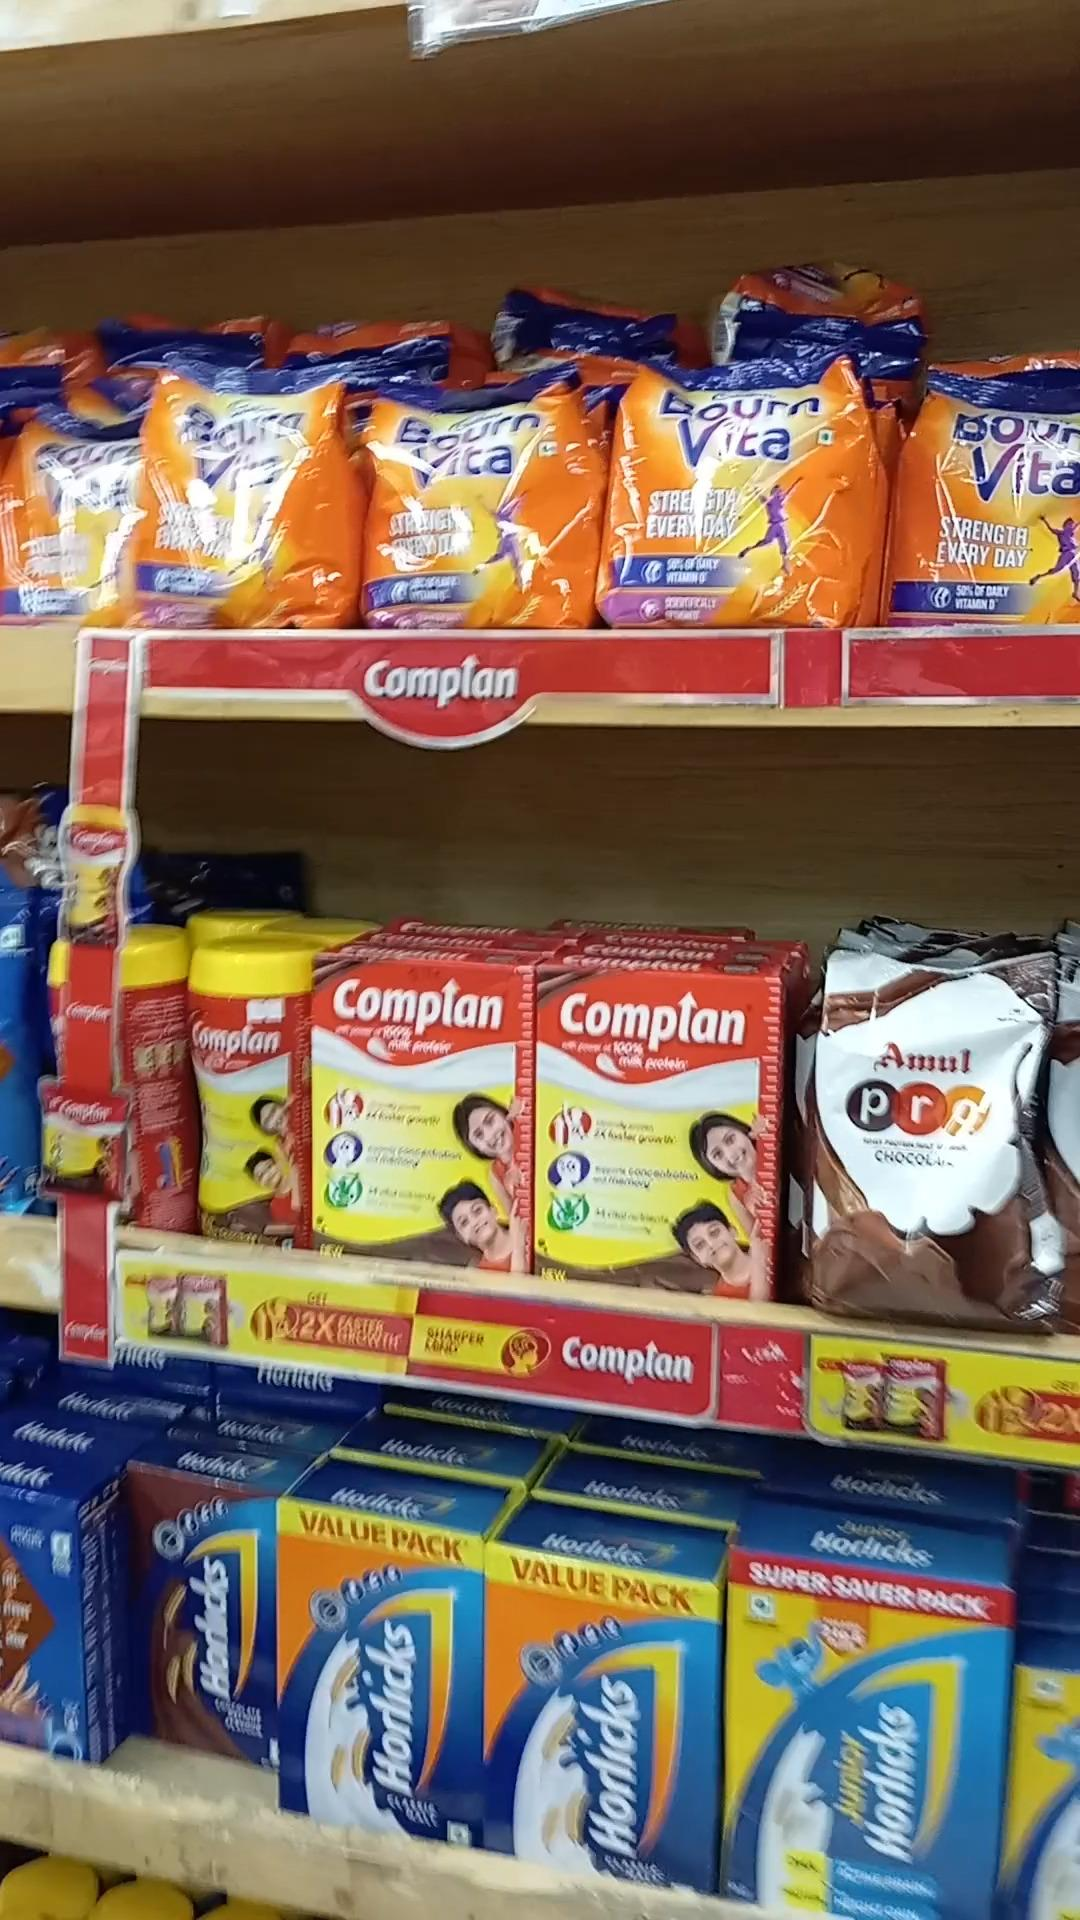BOURN_VITA_500_G_POUCH: (618, 342, 843, 628), (135, 357, 351, 630), (372, 377, 599, 626), (899, 345, 1080, 613)
COMPLAN_CHOCOLATE_500_GMS_JAR: (187, 936, 301, 1242)
COMPLAN_CHOCOLATE_500_GMS_PACK: (543, 967, 769, 1294), (311, 961, 533, 1276)
HORLICK_CLASSIC_MALT_500_G_PACK: (485, 1556, 716, 1884), (274, 1503, 479, 1846)
